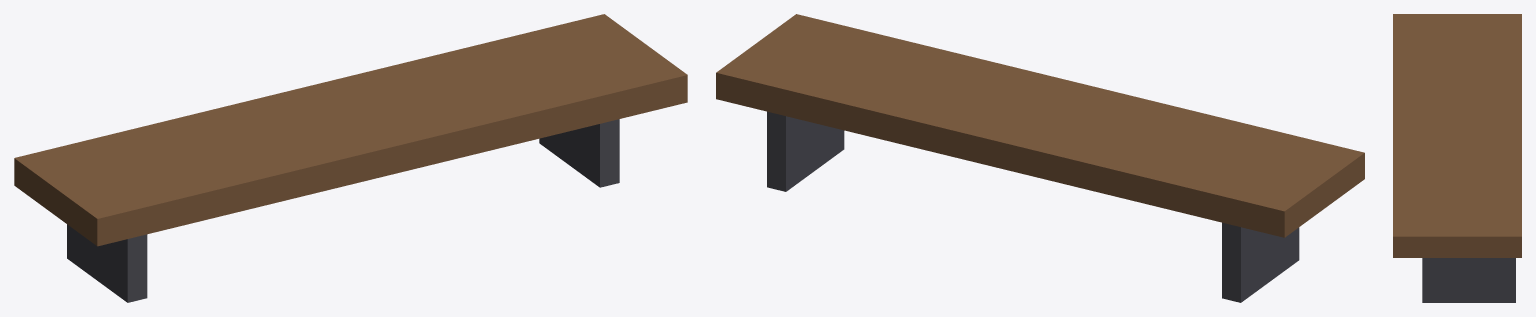
File: SM_P0_Wall_Shelf_A.obj
3 renders of one model, left to right at view 1: azimuth 30°, elevation 25°; view 2: azimuth 150°, elevation 25°; view 3: azimuth 270°, elevation 25°, orthographic. The views are drawn at different scales.
Parts seen in each view (by area): view 1: shelf_board, bracket_l, bracket_r; view 2: shelf_board, bracket_l, bracket_r; view 3: shelf_board, bracket_r.
Boxes of the visible parts, <box> form: shelf_board: <box>14,14,687,246</box>; bracket_l: <box>67,224,147,302</box>; bracket_r: <box>539,119,619,187</box>; shelf_board: <box>716,14,1364,237</box>; bracket_l: <box>1222,222,1299,302</box>; bracket_r: <box>767,111,844,191</box>; shelf_board: <box>1393,14,1521,257</box>; bracket_r: <box>1422,258,1515,302</box>.
Bounding box in the file's own units: 0.9 × 0.16 × 0.22.
